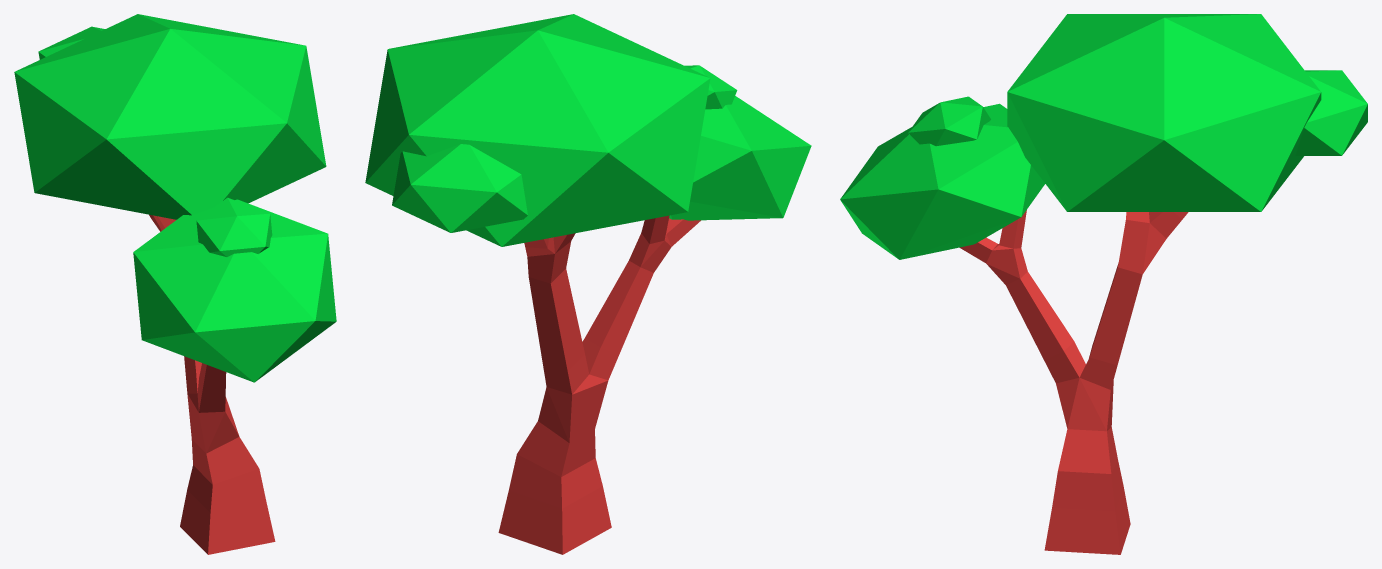
Rendered from Drzewo2.fbx.
3 renders of one model, left to right at view 1: azimuth 30°, elevation 25°; view 2: azimuth 150°, elevation 25°; view 3: azimuth 270°, elevation 25°, orthographic. The views are drawn at different scales.
Visible parts, largest first — view 1: Kula ico.002; view 2: Kula ico.002; view 3: Kula ico.002.
Part boxes in pixels (x1,y1,x2,y2): Kula ico.002: (14,14,336,554); Kula ico.002: (365,14,811,554); Kula ico.002: (840,14,1367,554).
Size of the model in its own units: 215 by 366 by 343.
